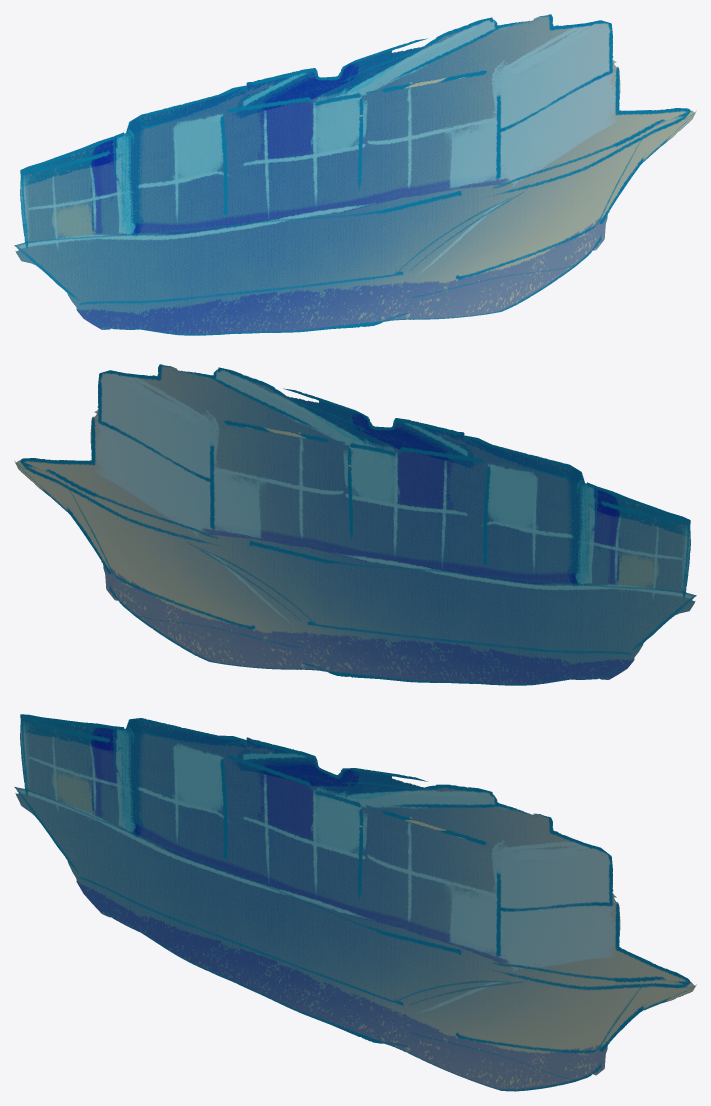
Rendered from ship_2.fbx.
3 renders of one model, top to bottom at view 1: azimuth 30°, elevation 25°; view 2: azimuth 150°, elevation 25°; view 3: azimuth 330°, elevation 25°, orthographic.
Parts seen in each view (by area): view 1: mask28; view 2: mask28; view 3: mask28.
Boxes of the visible parts, x1,y1,x2,y2 form: mask28: (14, 14, 696, 335); mask28: (14, 364, 696, 685); mask28: (14, 714, 696, 1091).
Size of the model in its own units: 15.17 by 6.31 by 1.53e-07.
Materials: 1 (1 with a texture image).
